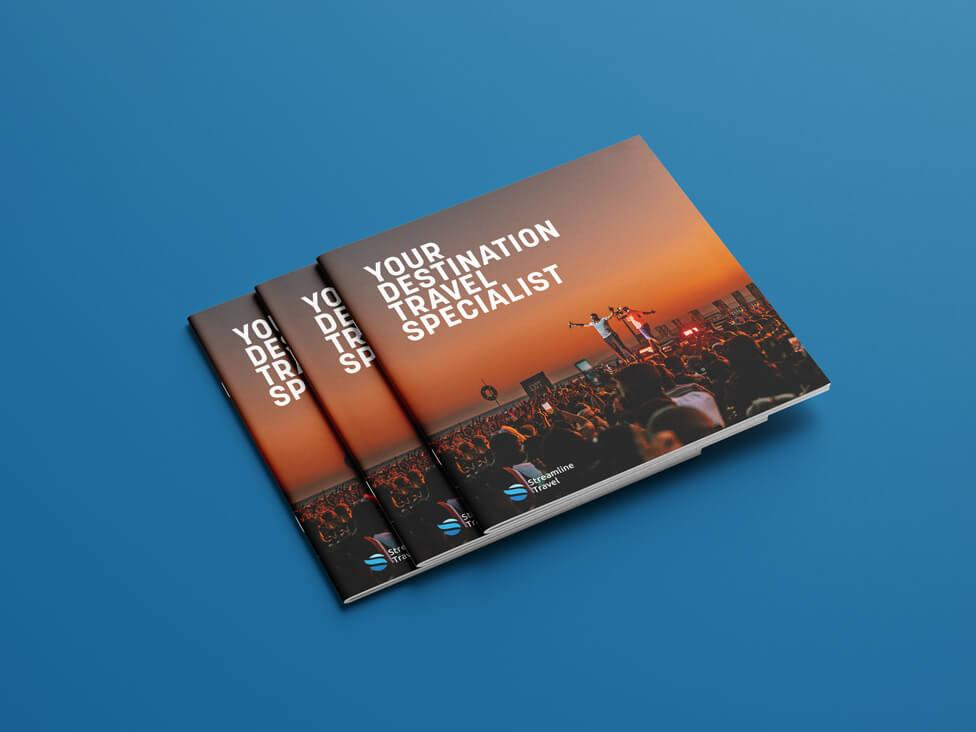paper: (188, 137, 831, 612)
